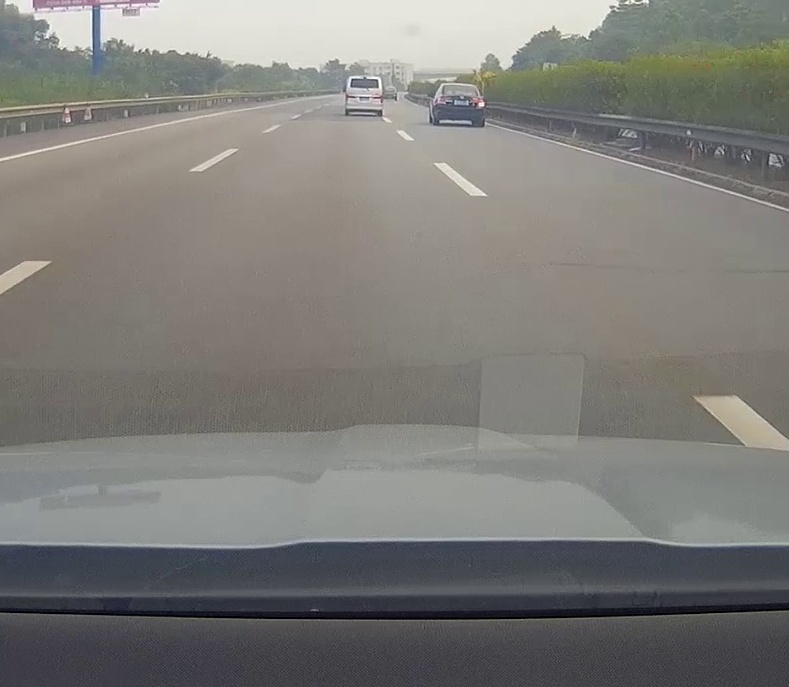L_light: (437, 96, 453, 105), (345, 95, 357, 102)
R_light: (470, 97, 485, 106), (373, 96, 383, 103)
T_light: (361, 78, 370, 80), (456, 85, 464, 86)
day-no: (344, 76, 384, 117)
day-right: (433, 83, 486, 126)
